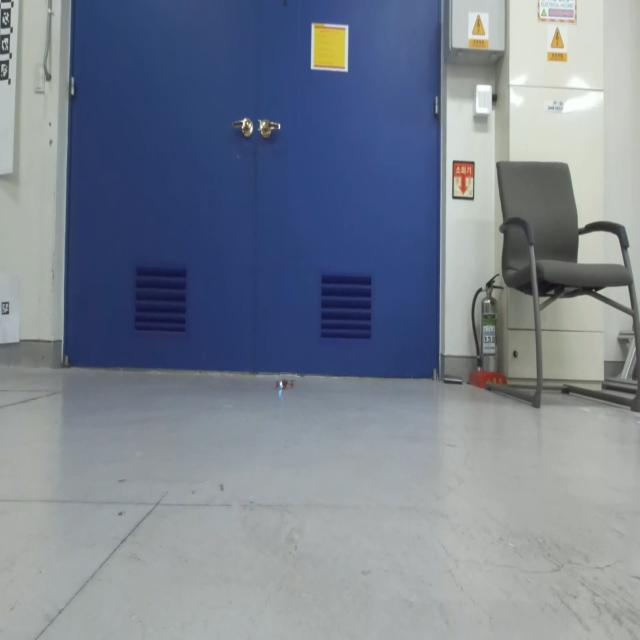crazyflie: (271, 372, 297, 399)
